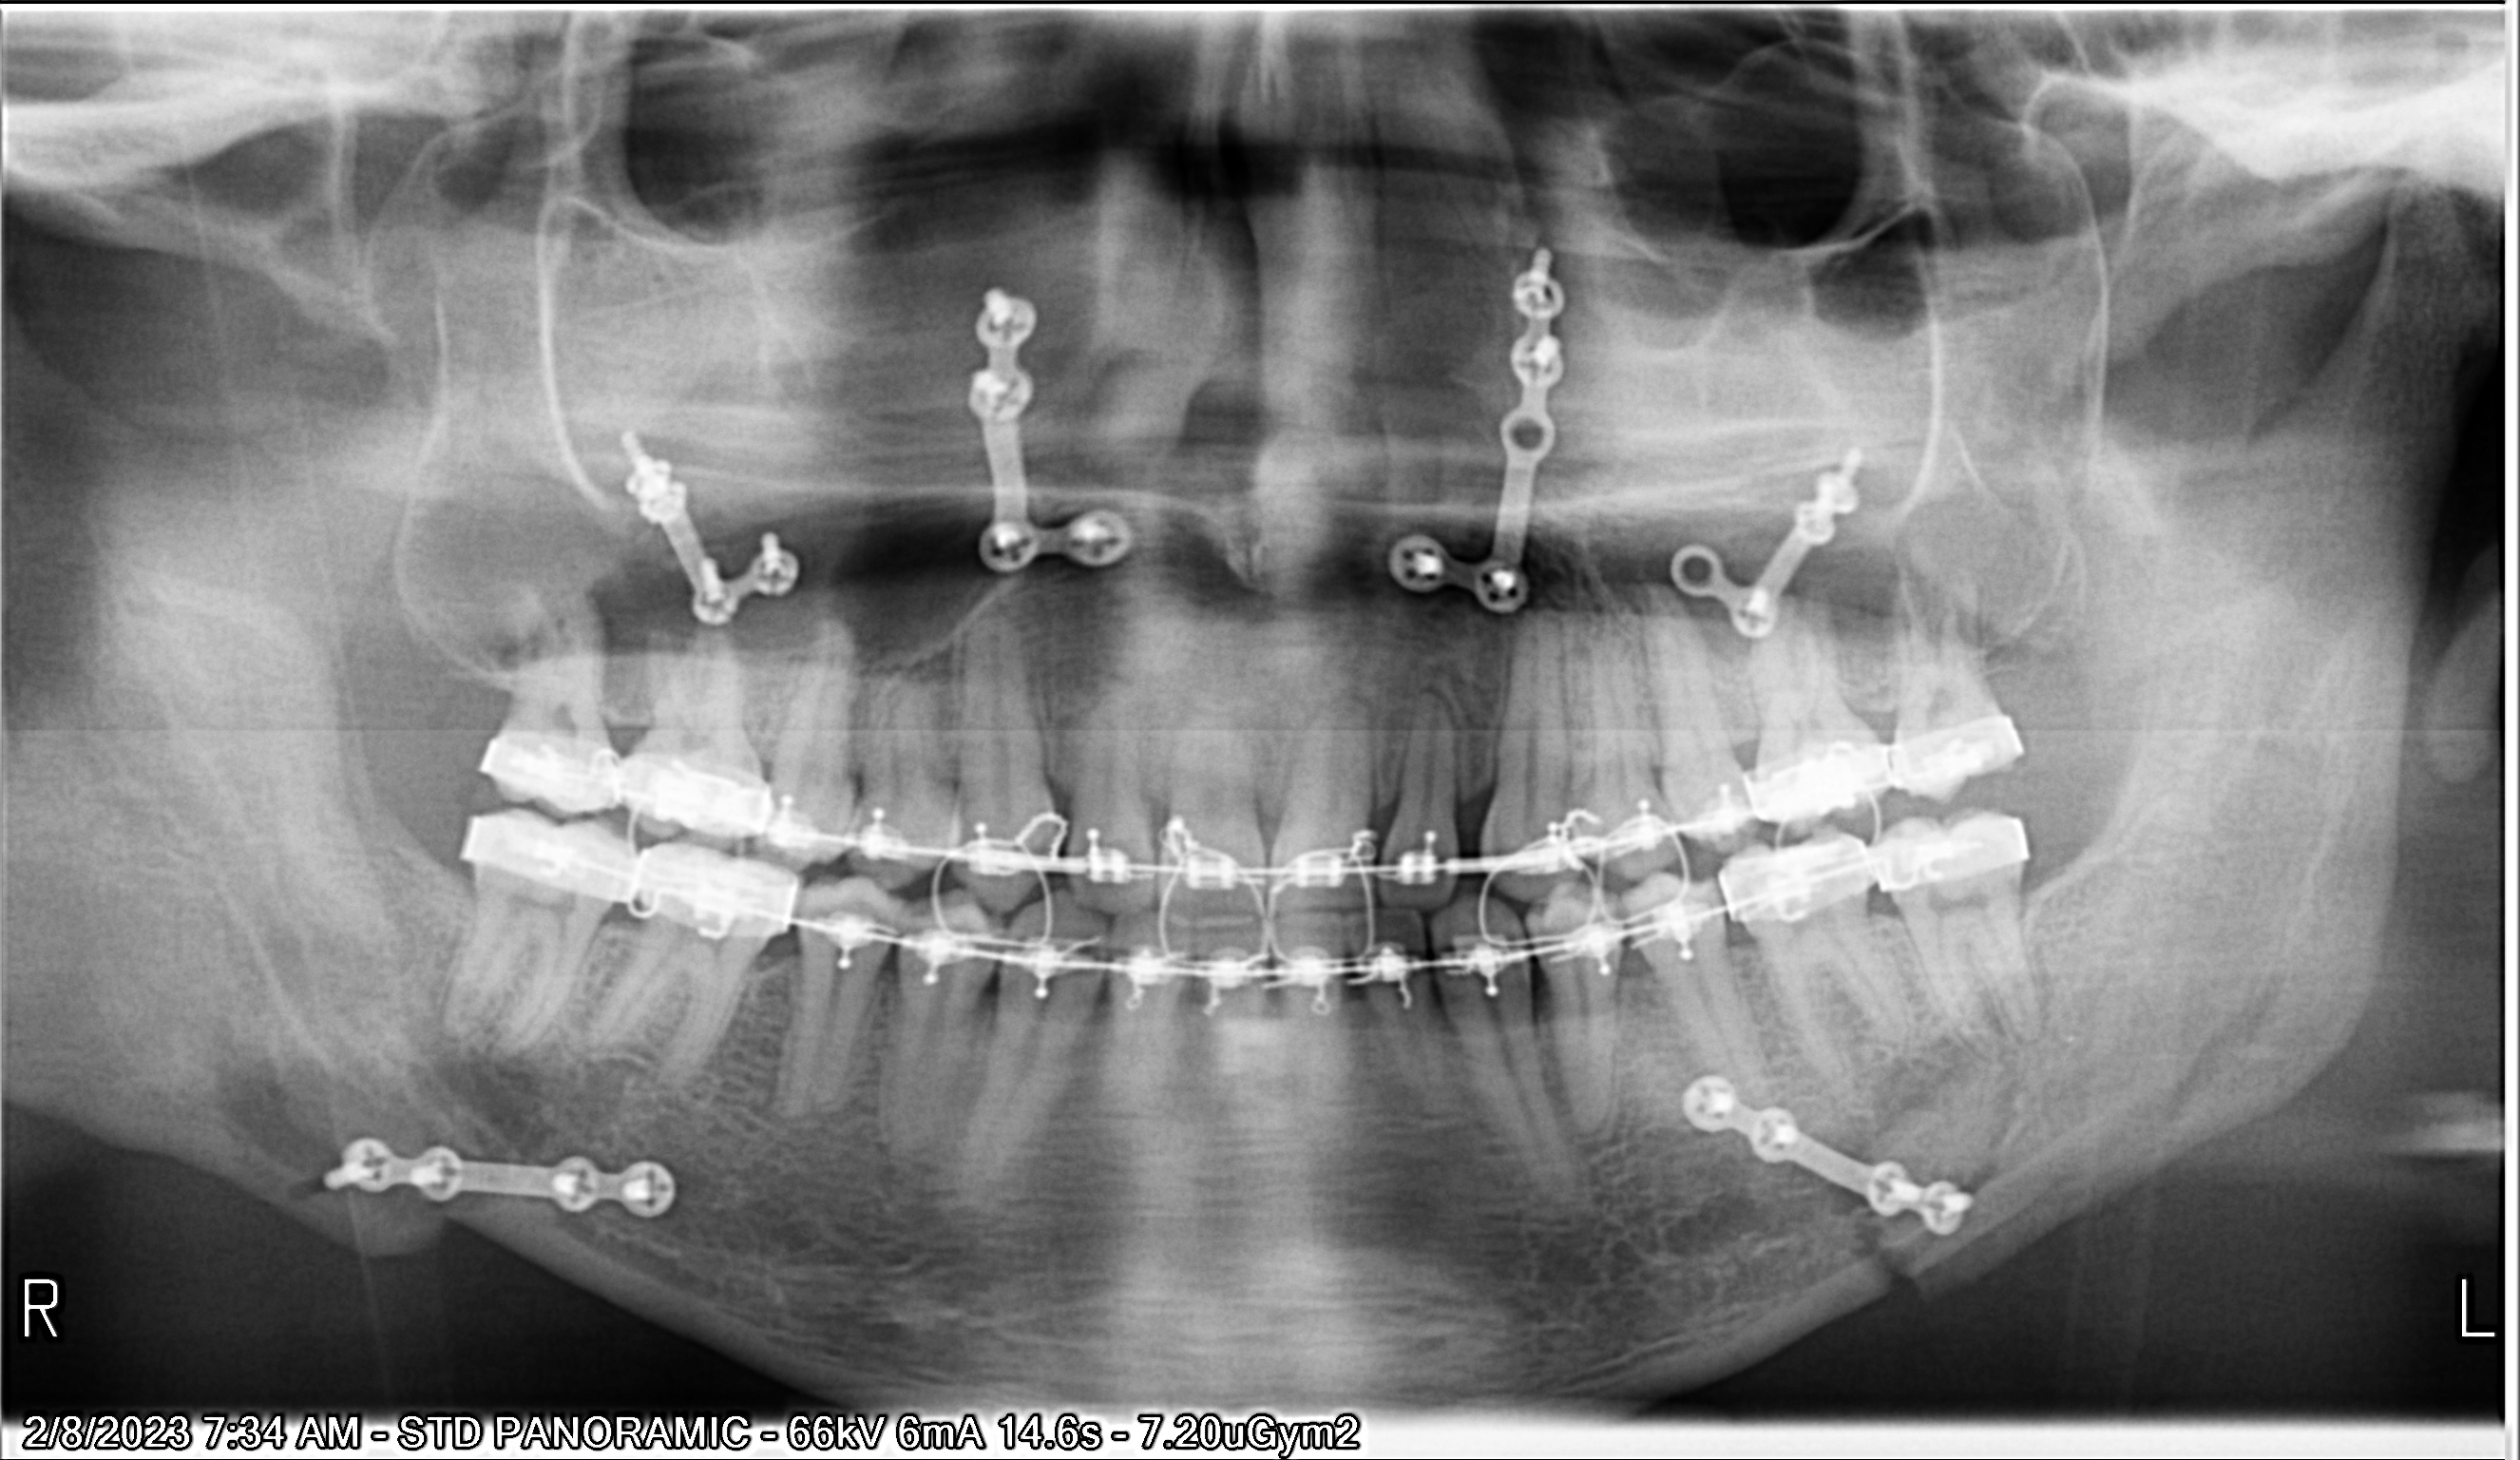ORD: (818, 907, 1471, 1003), (448, 791, 835, 946), (464, 721, 773, 843), (1705, 699, 2044, 808), (1089, 819, 1462, 914), (1714, 815, 2039, 925), (1462, 878, 1707, 991), (1464, 784, 1751, 878), (842, 806, 1101, 899)
SRD: (1370, 221, 1579, 634), (1643, 1053, 1982, 1238), (964, 287, 1132, 582), (1659, 421, 1869, 657), (599, 428, 815, 627), (287, 1133, 703, 1236)
